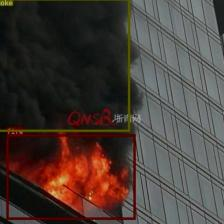fire: (6, 134, 135, 219)
smoke: (0, 0, 130, 131)
